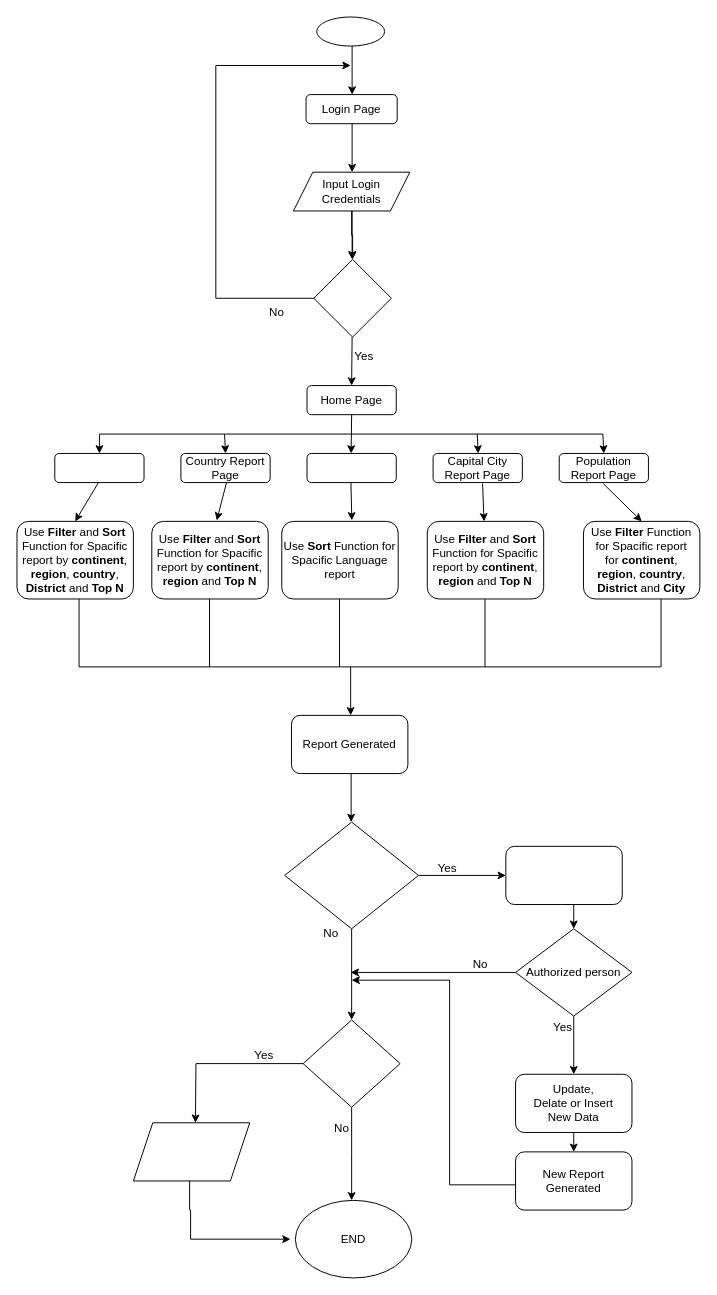
Image size: 717x1295. Some labels were removed from this diagram. The centre of each missing label's shape, as x and y in pixels:
"City Report Page" goes at (99,468).
"Click on Edit data" goes at (563,875).
"Language Report Page" goes at (351,468).
"Matched" goes at (352,298).
"Print Report" goes at (191,1151).
"Start" goes at (350,31).
"Want to Print Report" goes at (351,1063).
"Want to Update, Delate or Insert New Data" goes at (351,875).
